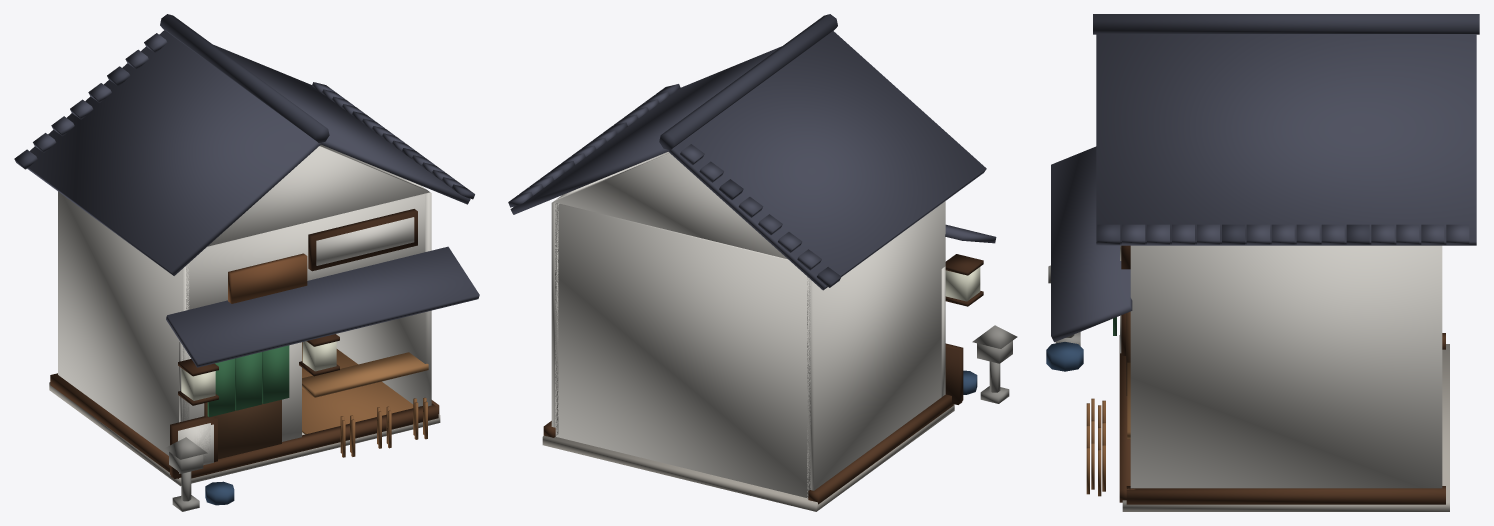
Rendered from washoku.glb.
The picture shows the model from 3 angles, left to right: view 1: azimuth 30°, elevation 25°; view 2: azimuth 150°, elevation 25°; view 3: azimuth 270°, elevation 25°; orthographic projection. The views are drawn at different scales.
Visible parts, largest first — view 1: washoku; view 2: washoku; view 3: washoku.
Part boxes in pixels (box(x1,y1,x2,y2)): washoku: box(14, 14, 479, 511); washoku: box(508, 14, 1017, 511); washoku: box(1046, 14, 1479, 511).
Bounding box in the file's own units: 2.91 × 2.97 × 2.78.
